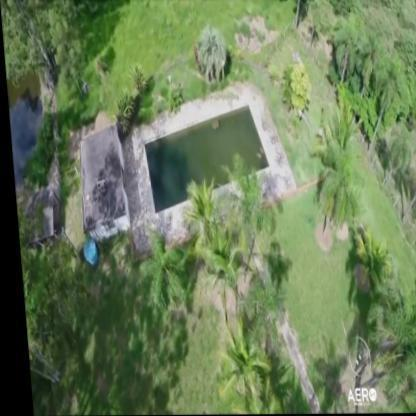agua: (148, 109, 254, 217)
